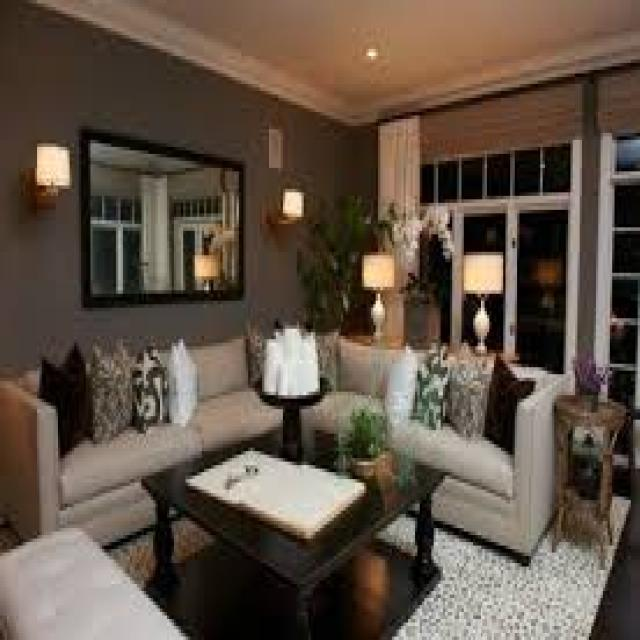Lamp: (22, 134, 77, 227), (457, 248, 504, 353), (357, 249, 395, 336), (267, 184, 314, 241)
Sofa: (319, 332, 543, 545), (4, 362, 266, 521), (0, 535, 179, 640)
Table: (137, 428, 446, 629), (560, 392, 626, 554)
